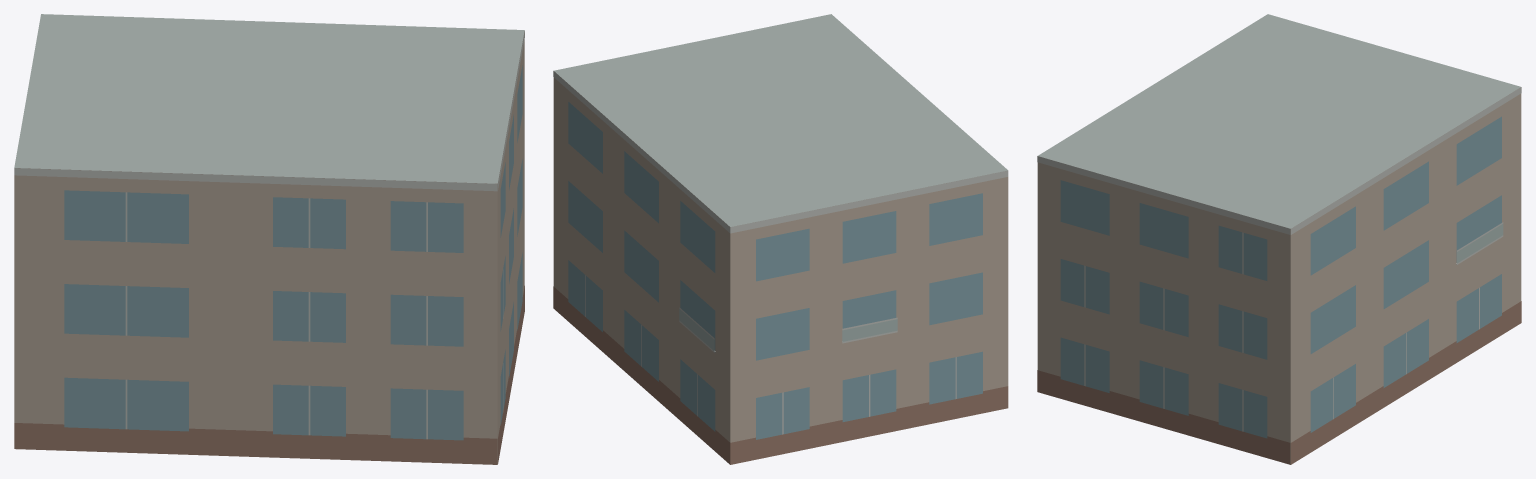
The model's file is survey-upis-32706673.glb.
3 renders of one model, left to right at view 1: azimuth 30°, elevation 25°; view 2: azimuth 150°, elevation 25°; view 3: azimuth 270°, elevation 25°, orthographic. The views are drawn at different scales.
Parts seen in each view (by area): view 1: survey-upis-32706673.tmp; view 2: survey-upis-32706673.tmp; view 3: survey-upis-32706673.tmp.
Part boxes in pixels (bbox=[...]): survey-upis-32706673.tmp: bbox=[14, 14, 524, 464]; survey-upis-32706673.tmp: bbox=[553, 14, 1008, 464]; survey-upis-32706673.tmp: bbox=[1037, 14, 1521, 464].
Bounding box in the file's own units: 17.87 × 9.15 × 17.01.
